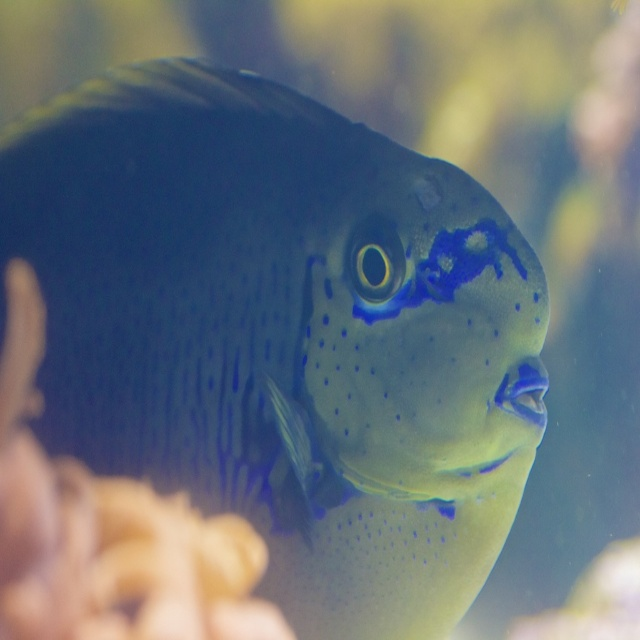Fish: (23, 25, 552, 624)
